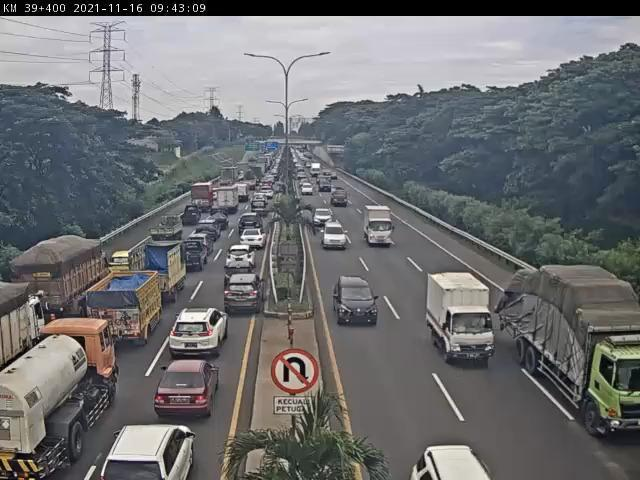car: (99, 425, 195, 480), (157, 359, 221, 419), (172, 308, 230, 358), (414, 447, 494, 480), (335, 276, 380, 327), (227, 275, 268, 316), (228, 246, 259, 273), (323, 223, 347, 251), (242, 230, 269, 249), (197, 220, 223, 239), (240, 214, 264, 233), (113, 251, 134, 272), (210, 209, 230, 230), (192, 235, 215, 253), (184, 206, 203, 225), (313, 209, 333, 227), (251, 201, 268, 217), (255, 194, 269, 205), (302, 184, 314, 196), (261, 188, 274, 199)
truck: (502, 266, 640, 440), (1, 317, 117, 480), (13, 237, 111, 319), (429, 272, 498, 368), (90, 271, 165, 348), (1, 284, 45, 374), (130, 241, 189, 301), (364, 205, 395, 247), (183, 240, 209, 272), (153, 217, 183, 242), (193, 183, 215, 211), (218, 189, 240, 214), (221, 168, 239, 187), (332, 188, 350, 207), (234, 184, 250, 202), (321, 178, 334, 193)
